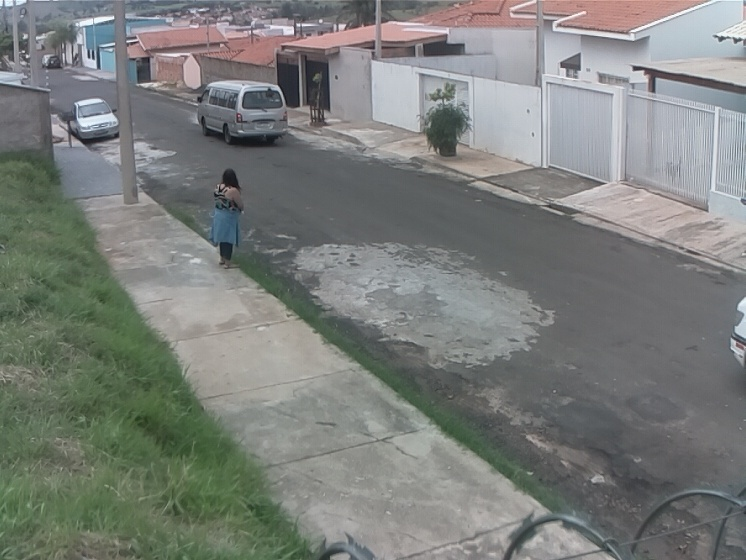person: (211, 167, 251, 273)
